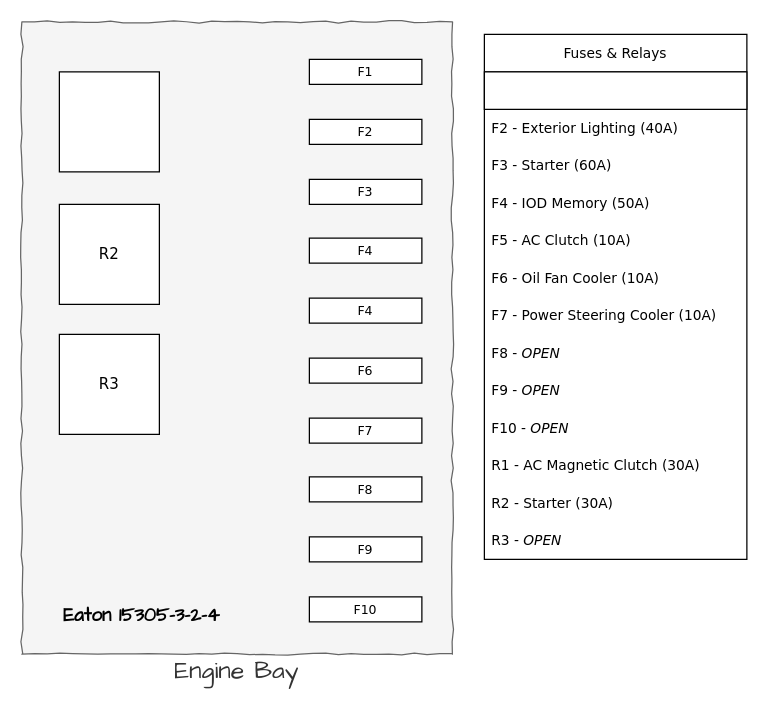
This 769x709 diagram has some shape labels left out. Here are the shapes that lost their labels. From the top down, the centre of each, then its label:
At pixel 615 90: "F1 - HVAC Blower (40A)".
At pixel 108 121: "R1".
